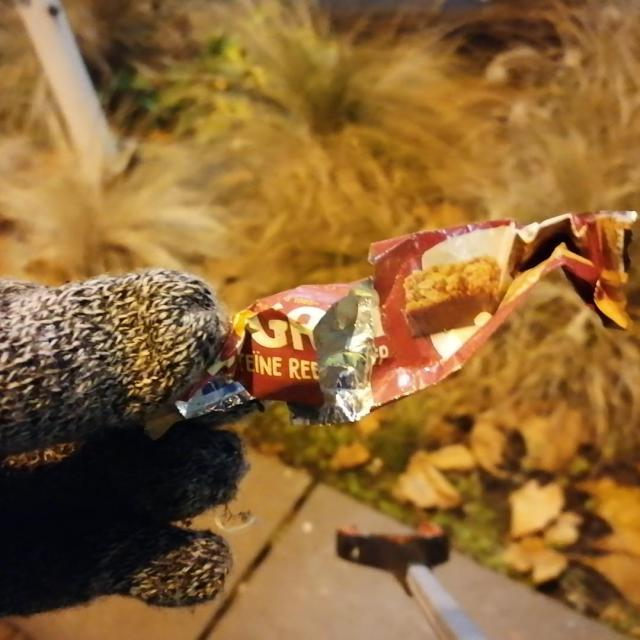Plastic: (173, 208, 640, 429)
